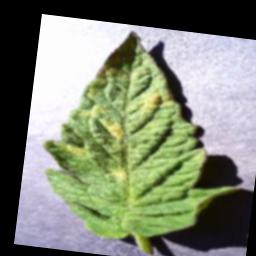Leaf_Mold: (139, 88, 178, 115), (96, 114, 127, 142), (61, 140, 90, 160), (104, 163, 128, 183)
